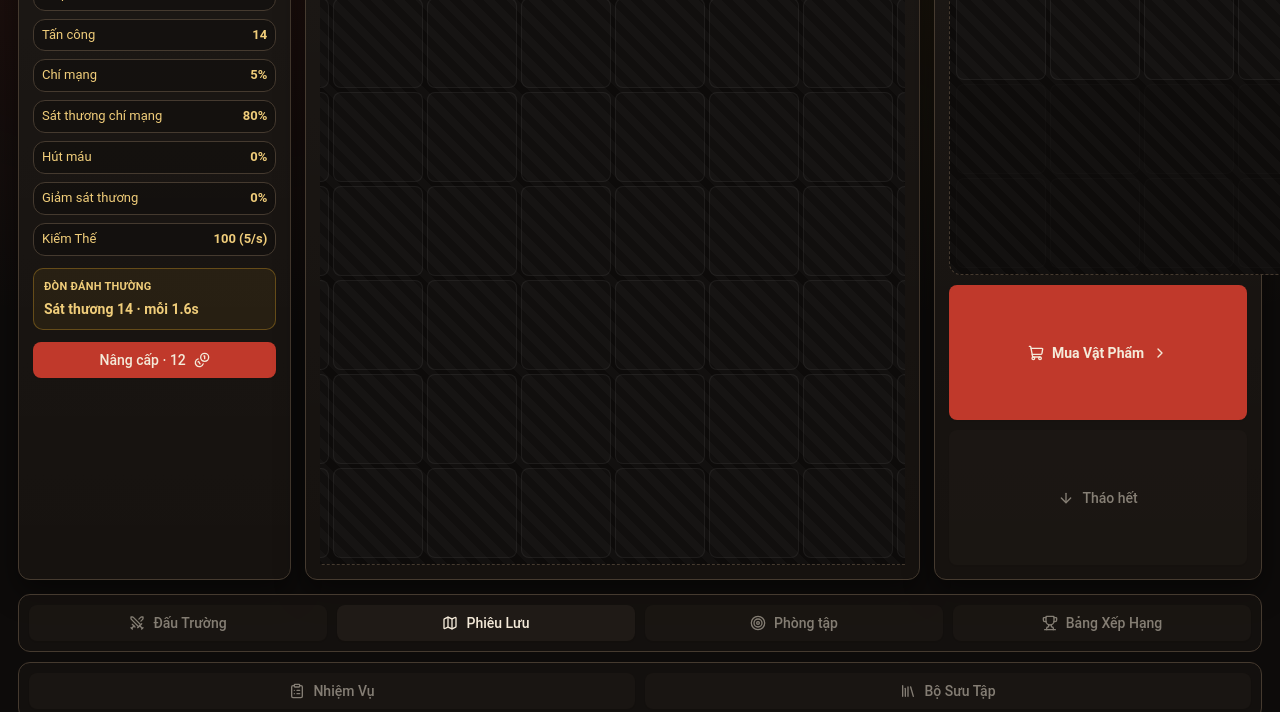
Test: navigation between the preparation room and the shop › clicking Mua Vật Phẩm opens the shop page and changes the URL
(page scrolled)
Click the button "Mua Vật Phẩm".
click(1098, 352)  # box [949,285,1247,420]
(page scrolled)
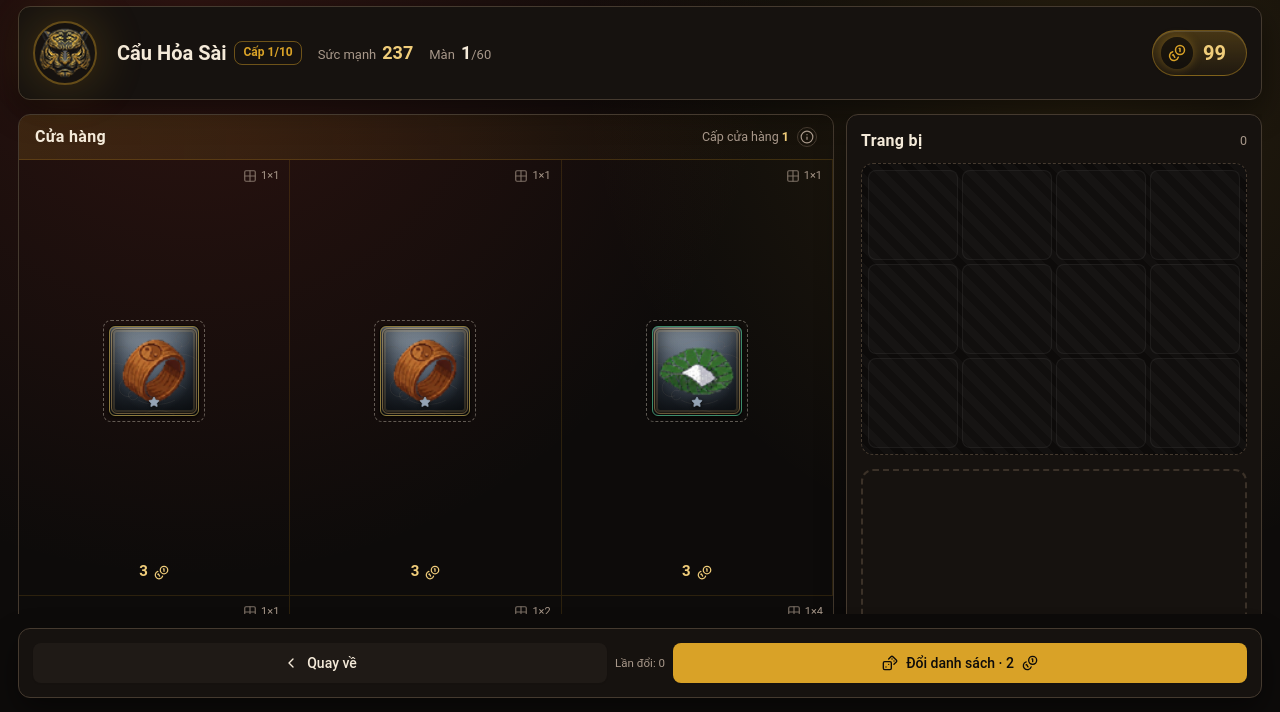
Expected: the heading "Cửa hàng" is shown, [35,125,106,149]
